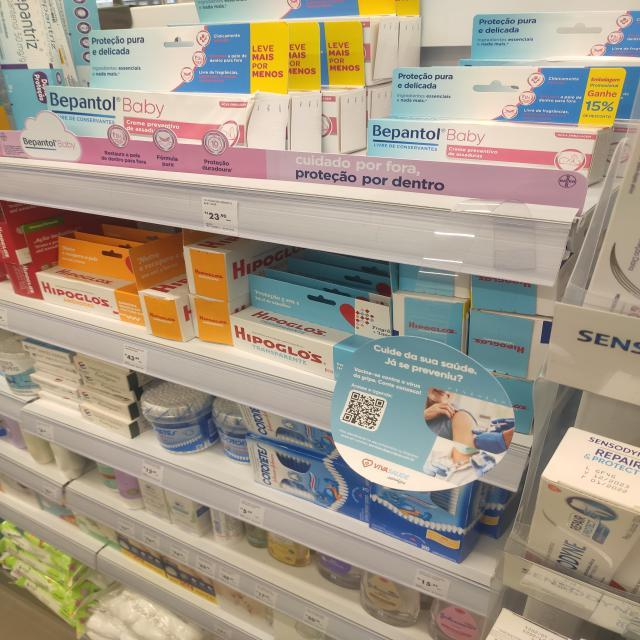qrcode: (343, 393, 386, 430)
